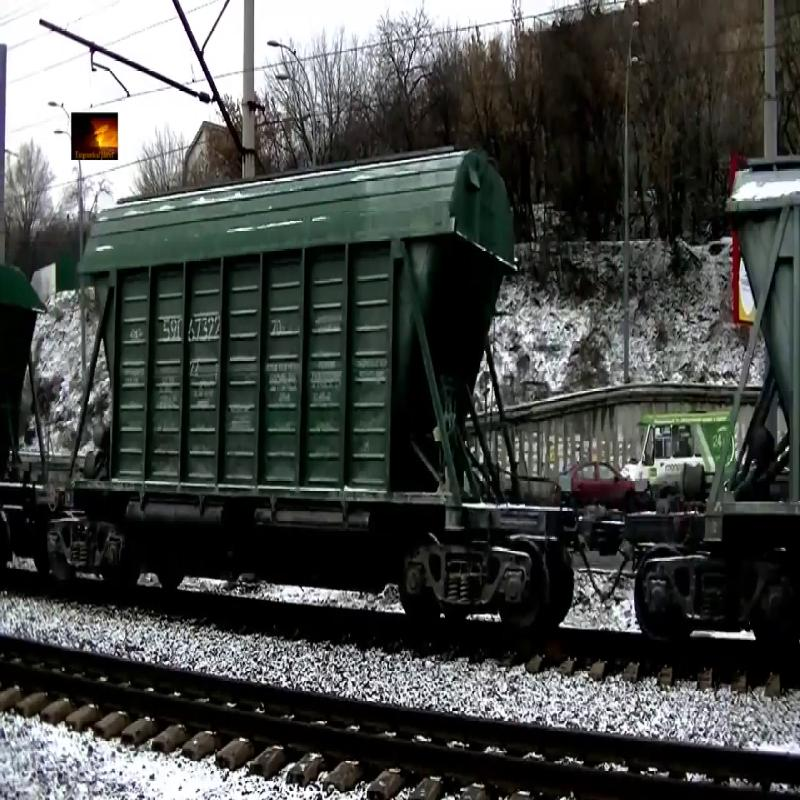train: (64, 143, 514, 544), (690, 148, 800, 554), (1, 247, 46, 524)
